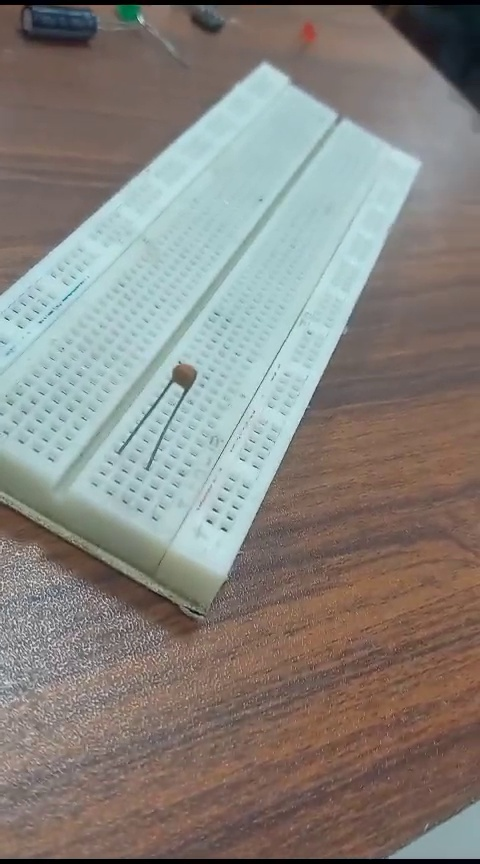ceramic capacitor: (115, 356, 200, 465)
